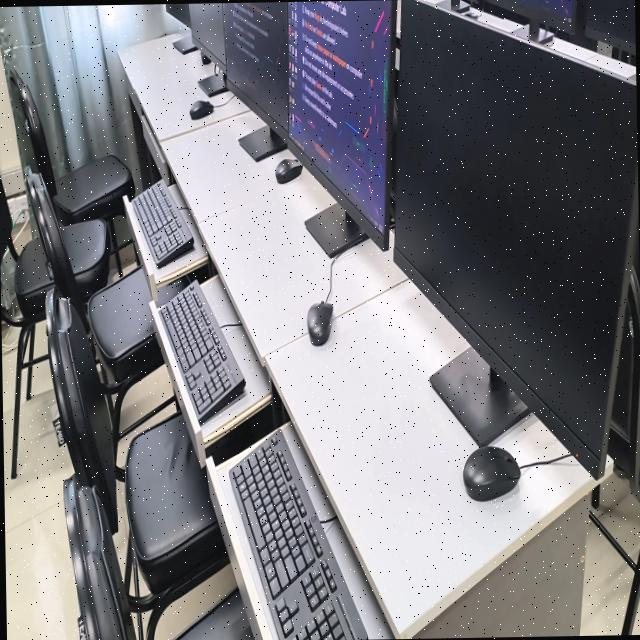Chair: (45, 286, 227, 640), (23, 167, 162, 449), (6, 65, 134, 223), (0, 180, 53, 474), (35, 173, 109, 294), (606, 264, 640, 502)
Keyboard: (228, 429, 366, 640), (159, 281, 243, 422), (130, 180, 192, 267)
Monitor: (393, 0, 638, 477), (286, 0, 394, 261), (221, 1, 287, 159), (484, 0, 575, 43), (187, 2, 226, 95), (584, 0, 635, 55), (164, 2, 189, 26)
Mouse: (461, 444, 519, 500), (305, 300, 332, 344), (274, 157, 301, 182), (188, 98, 212, 118), (198, 49, 210, 62)
